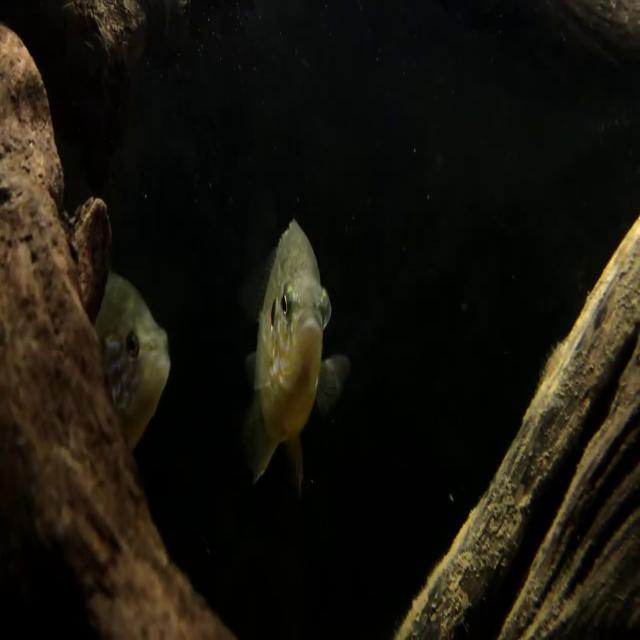Gunes Levregi: (240, 216, 350, 496), (92, 268, 172, 457)
